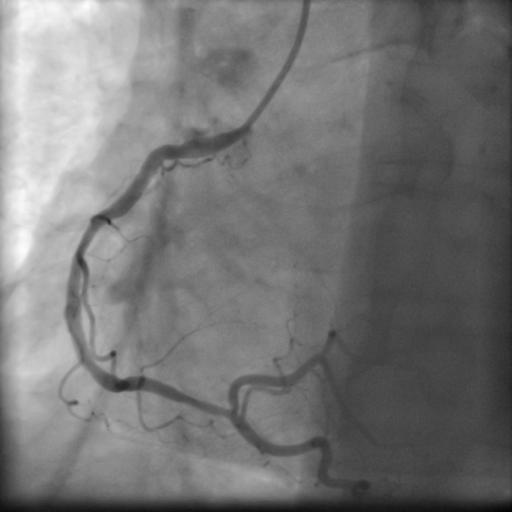Stenosis: (179, 386, 234, 421)
